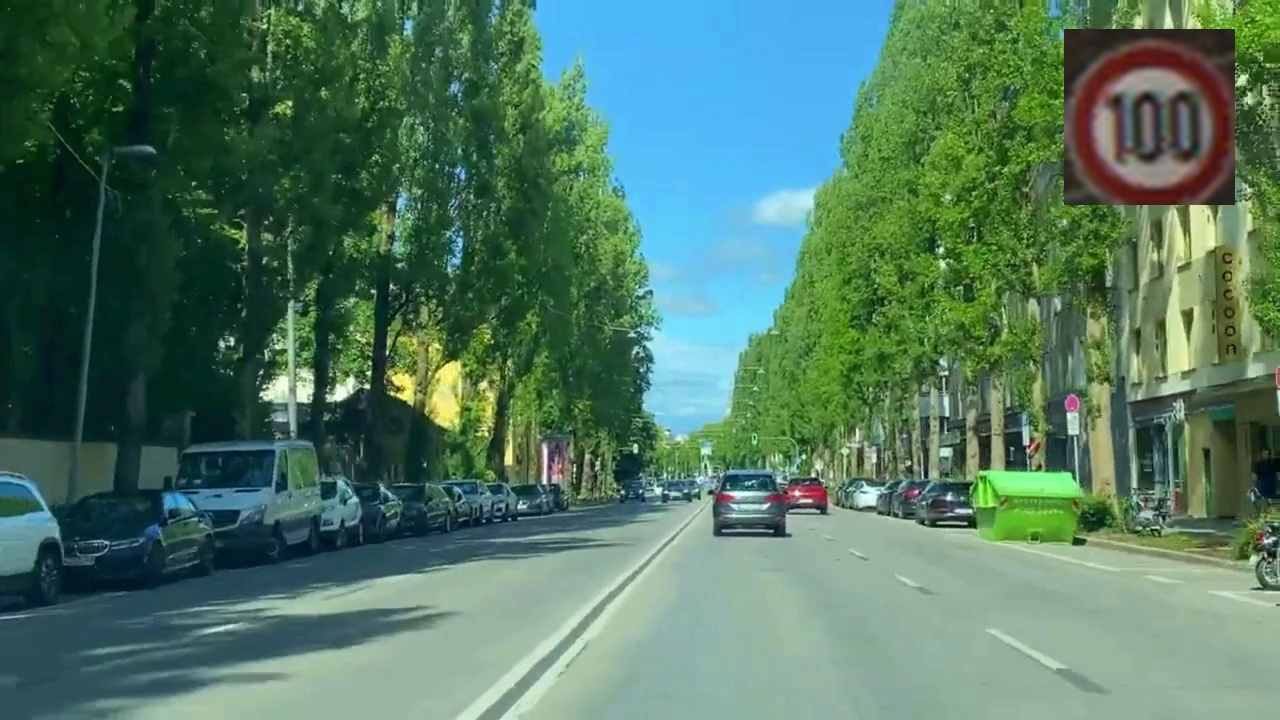Speed 100: (1064, 29, 1235, 205)
